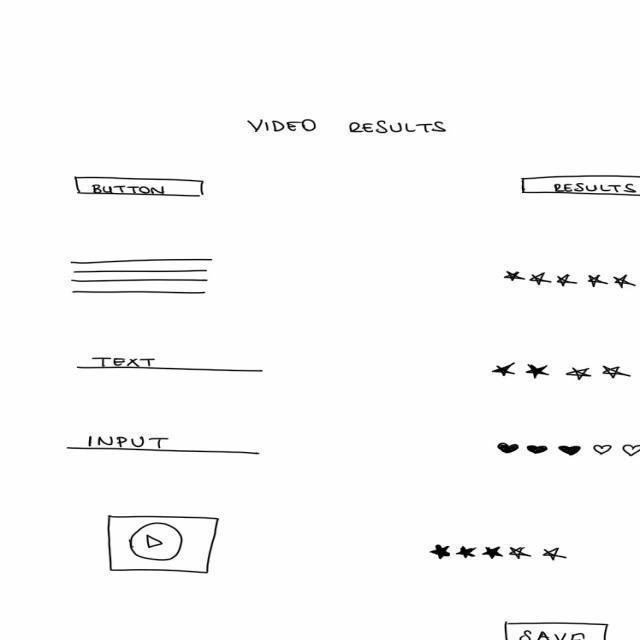button: (75, 176, 207, 200), (518, 176, 640, 199), (503, 621, 613, 640)
input: (64, 435, 264, 459), (75, 354, 268, 376)
label: (246, 117, 449, 137)
text: (68, 256, 217, 299)
